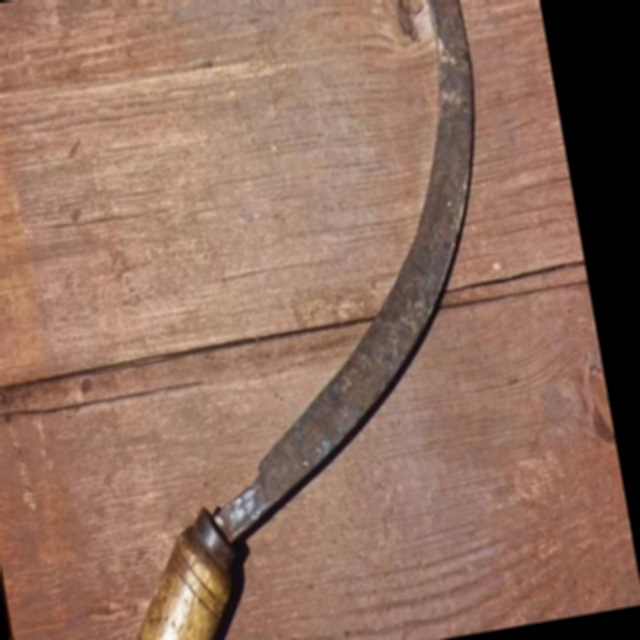Sharp-Object: (0, 0, 605, 640)
